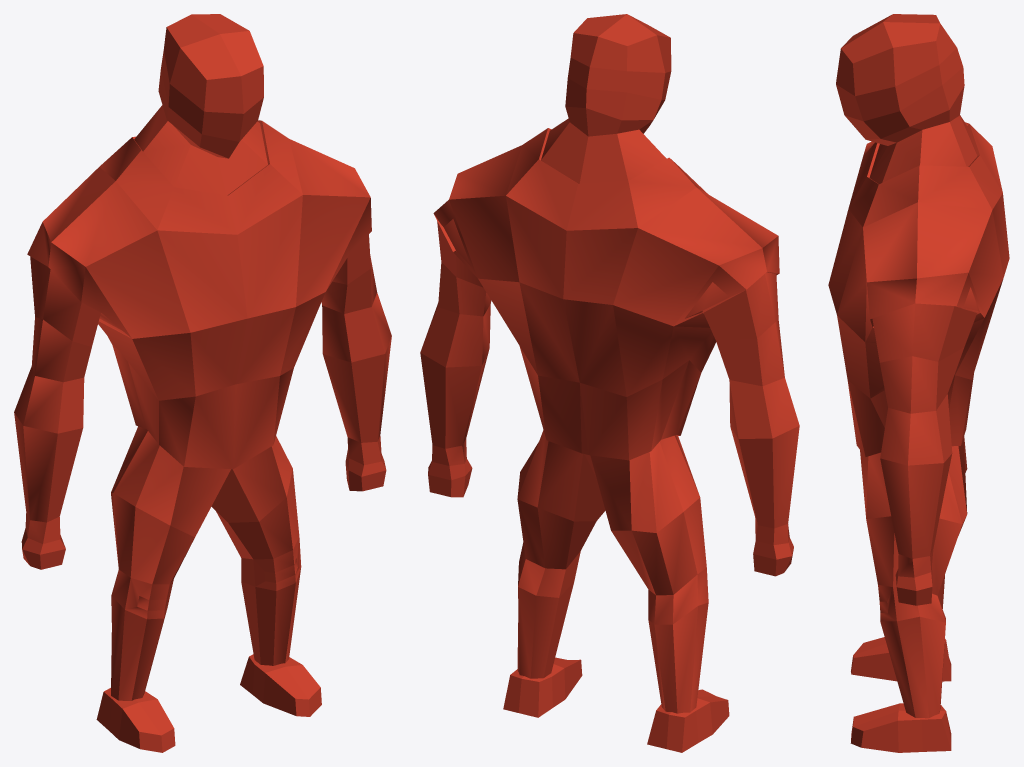
File: char.obj
3 renders of one model, left to right at view 1: azimuth 30°, elevation 25°; view 2: azimuth 150°, elevation 25°; view 3: azimuth 270°, elevation 25°, orthographic.
Visible parts, largest first — view 1: Plane.001; view 2: Plane.001; view 3: Plane.001.
Boxes of the visible parts, x1,y1,x2,y2 form: Plane.001: (14,14,391,752); Plane.001: (420,14,799,752); Plane.001: (828,14,1009,752).
Size of the model in its own units: 0.2836 by 0.5065 by 0.1213.
